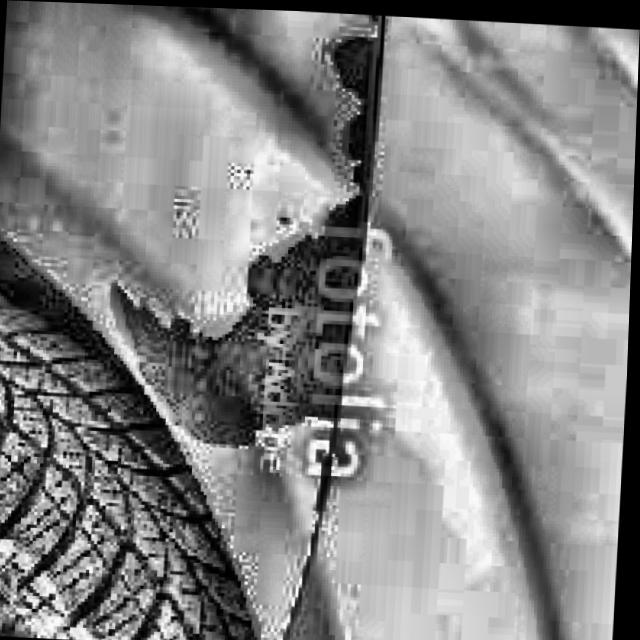bumper_scratch: (117, 5, 403, 456), (245, 461, 343, 640)
